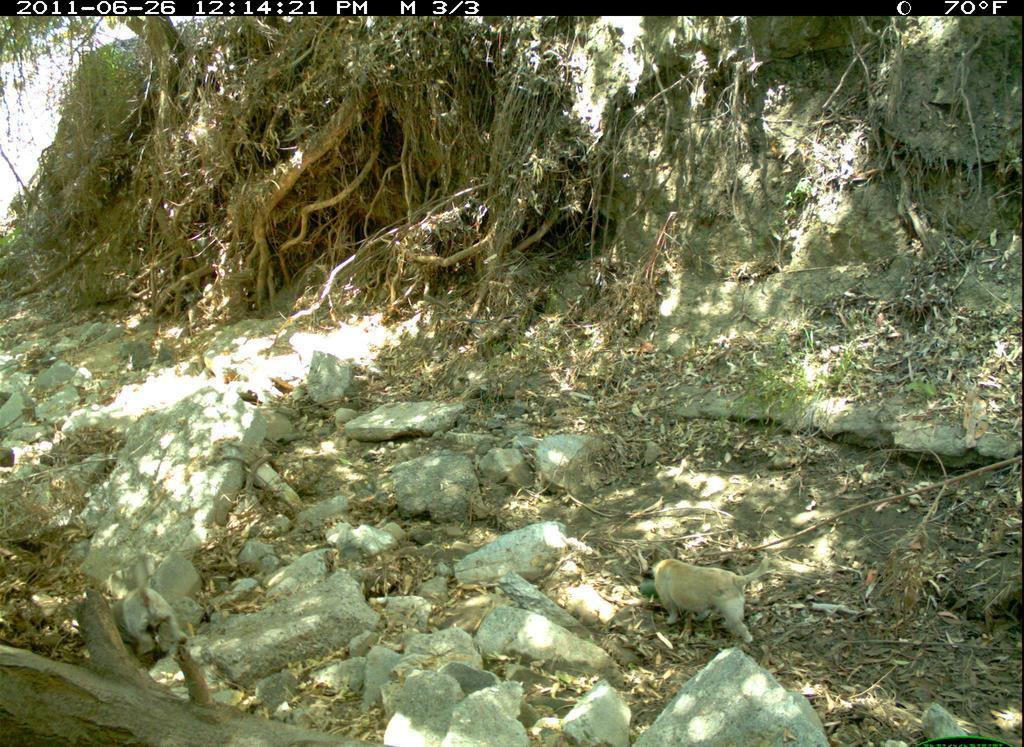dog: (643, 551, 781, 647)
